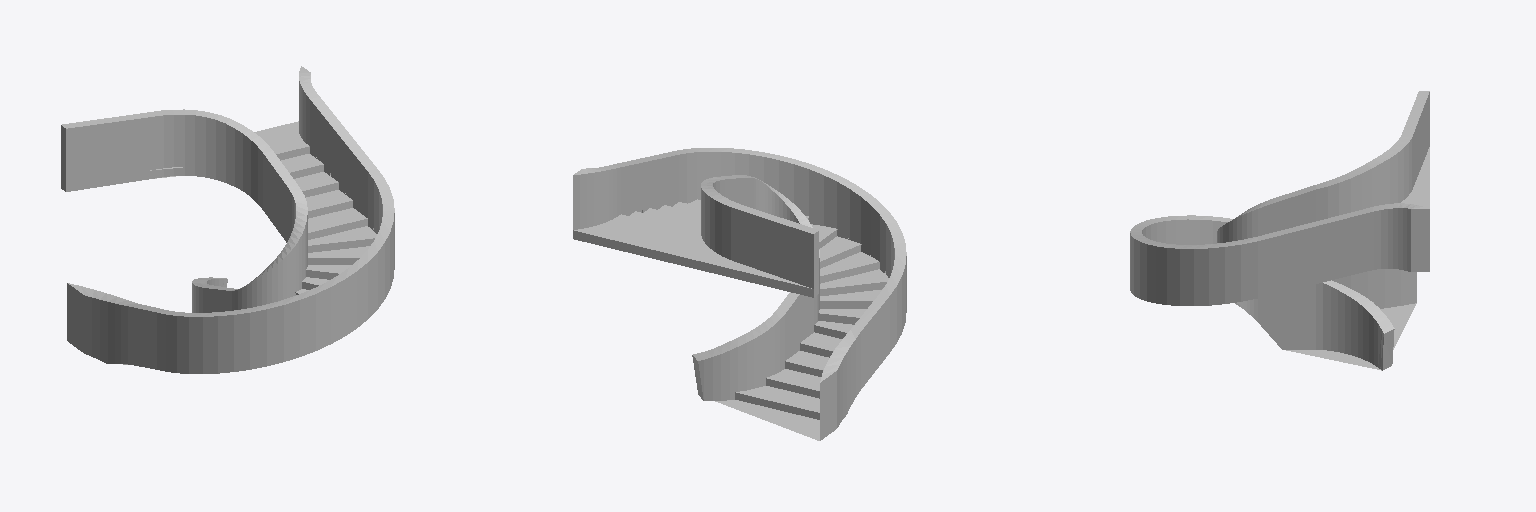
File: Modern+Spiral+Staircase.obj
3 renders of one model, left to right at view 1: azimuth 30°, elevation 25°; view 2: azimuth 150°, elevation 25°; view 3: azimuth 270°, elevation 25°, orthographic.
Visible parts, largest first — view 1: Mesh21 Model; view 2: Mesh21 Model; view 3: Mesh21 Model.
Boxes of the visible parts, x1,y1,x2,y2 form: Mesh21 Model: [61, 66, 394, 373]; Mesh21 Model: [573, 148, 906, 440]; Mesh21 Model: [1130, 91, 1429, 370].
Size of the model in its own units: 4.8 by 4.03 by 5.17.